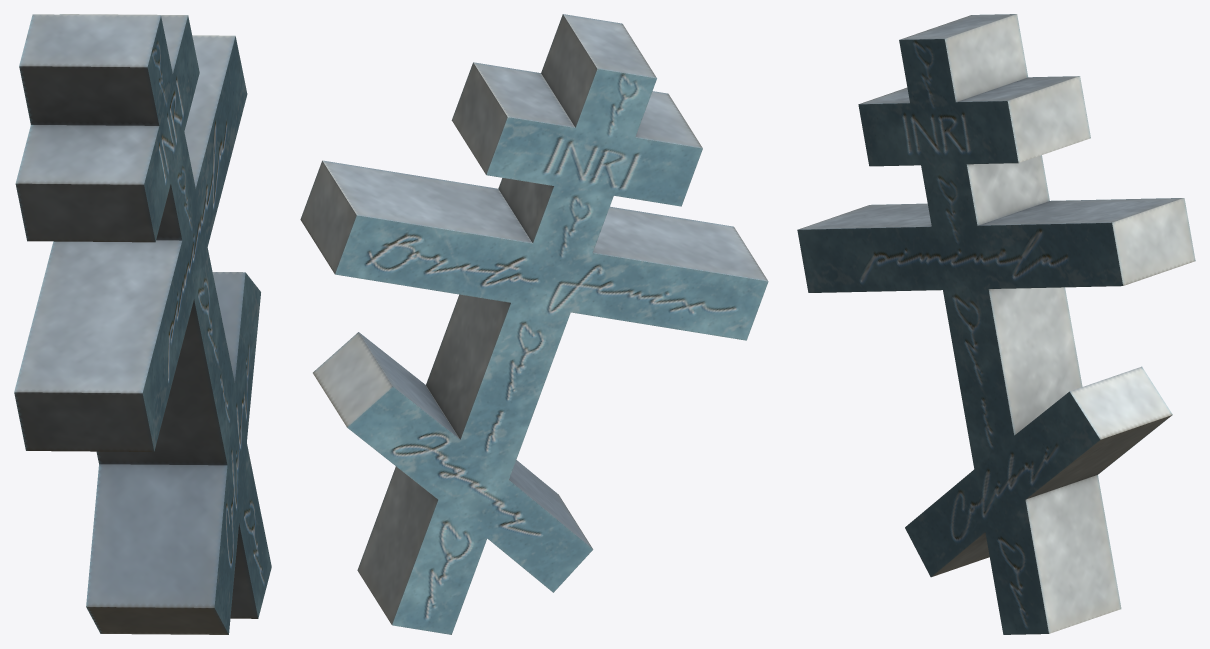
The picture shows the model from 3 angles, left to right: view 1: azimuth 30°, elevation 25°; view 2: azimuth 150°, elevation 25°; view 3: azimuth 270°, elevation 25°; orthographic projection. The views are drawn at different scales.
Visible parts, largest first — view 1: Cruz_Orto_Cube.011; view 2: Cruz_Orto_Cube.011; view 3: Cruz_Orto_Cube.011.
Boxes of the visible parts, x1,y1,x2,y2 form: Cruz_Orto_Cube.011: (14,14,271,634); Cruz_Orto_Cube.011: (300,14,768,634); Cruz_Orto_Cube.011: (797,14,1195,634).
Bounding box in the file's own units: 1.63 × 2.69 × 1.76.
